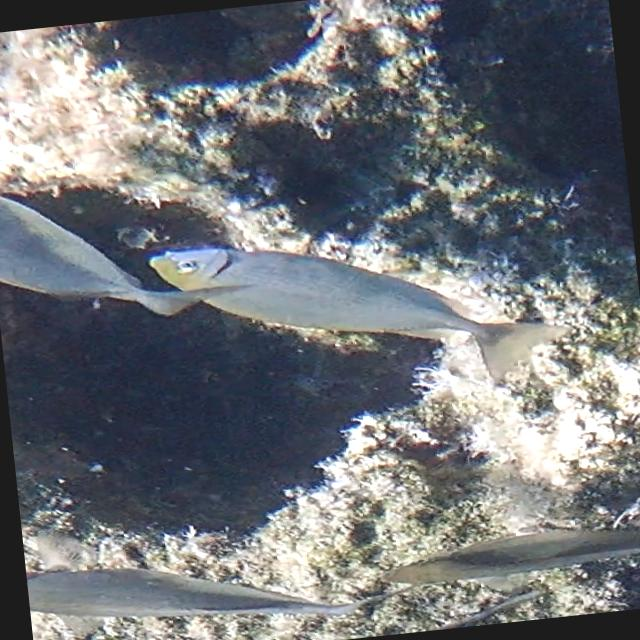Sokar Baligi: (130, 193, 588, 430)
